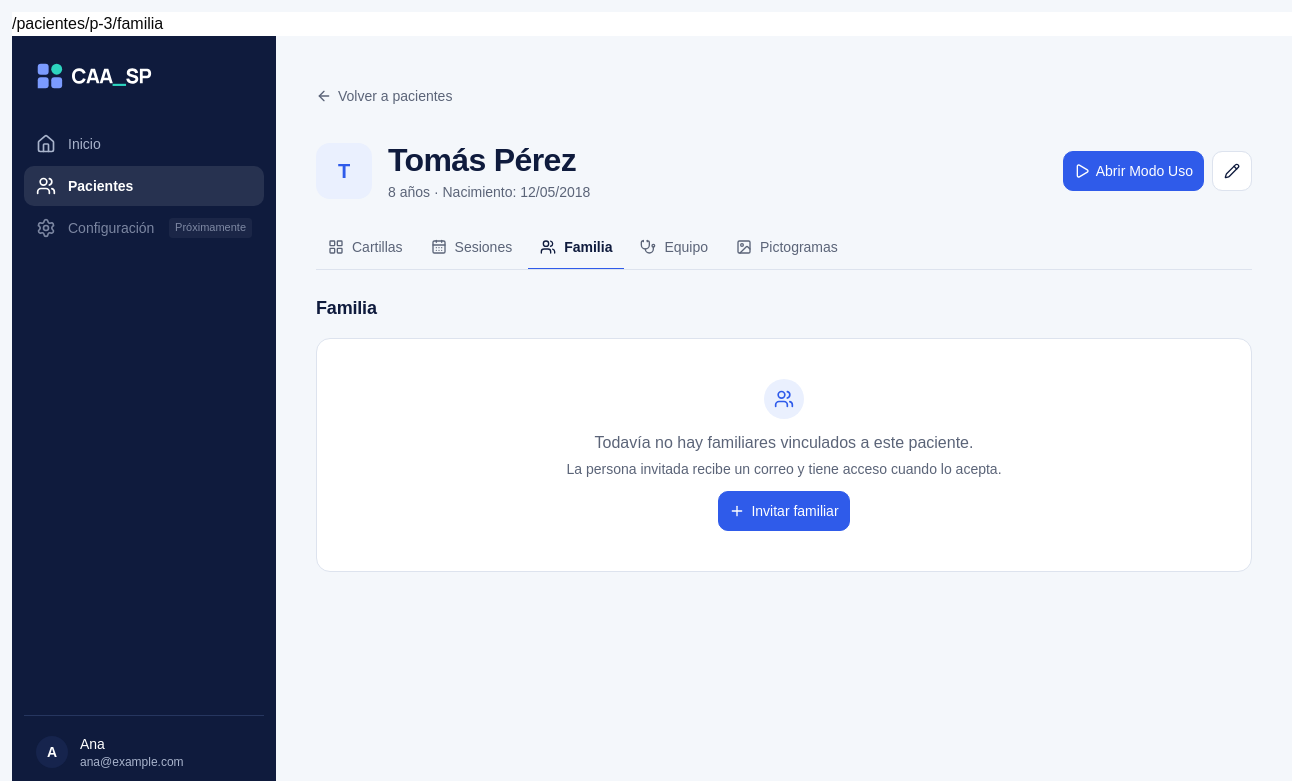
Test: CollaboratorsPage › invitations › sends an invitation (202) to an email without account: confirms it, lists it as pending, never as linked
The image size is (1292, 781).
Expected: the text "Todavía no hay familiares vinculados a este paciente." is shown, [566,431,1002,455]
Click the button "Invitar familiar". click: (784,511)
box: [718,491,850,531]
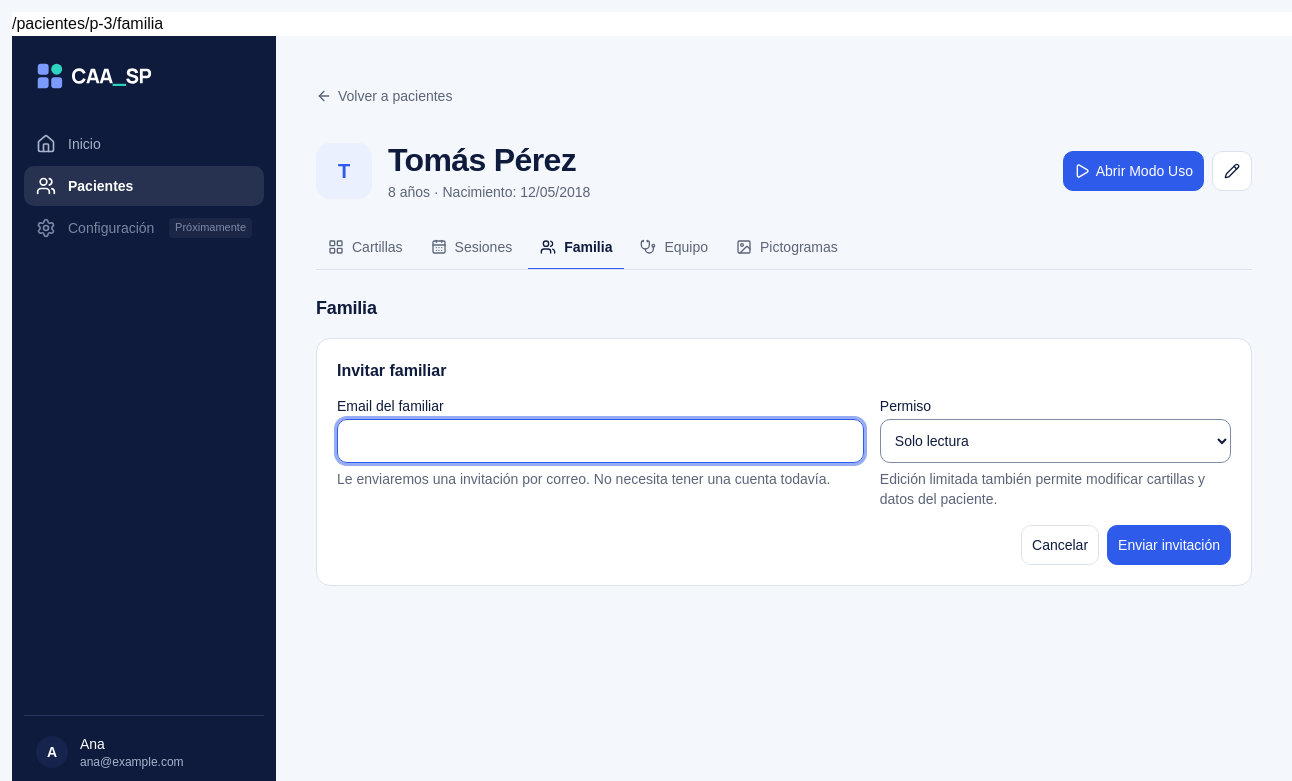
Type "nadie@example.com" into the field labelled "Email del familiar". click: (600,441)
box: [337,419,864,463]
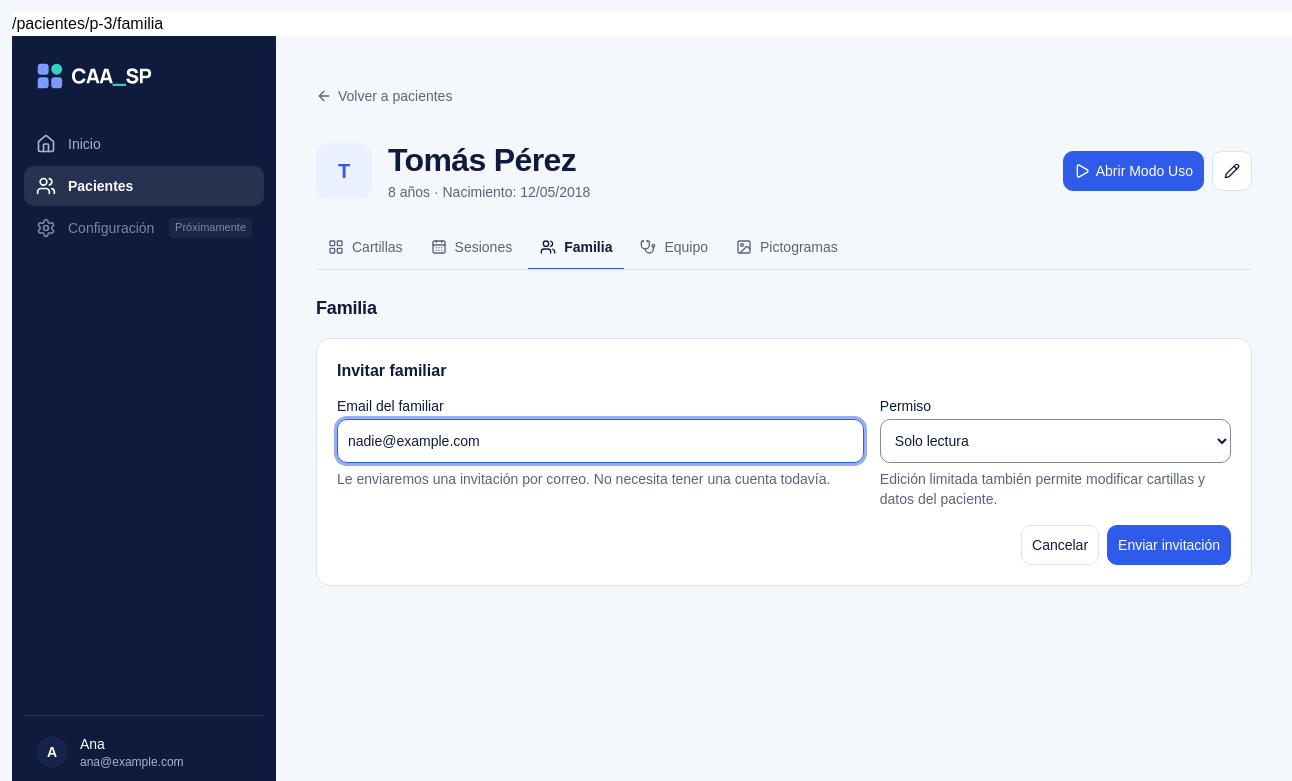
Click the button "Enviar invitación". click: (1169,545)
box: [1107,525,1231,565]
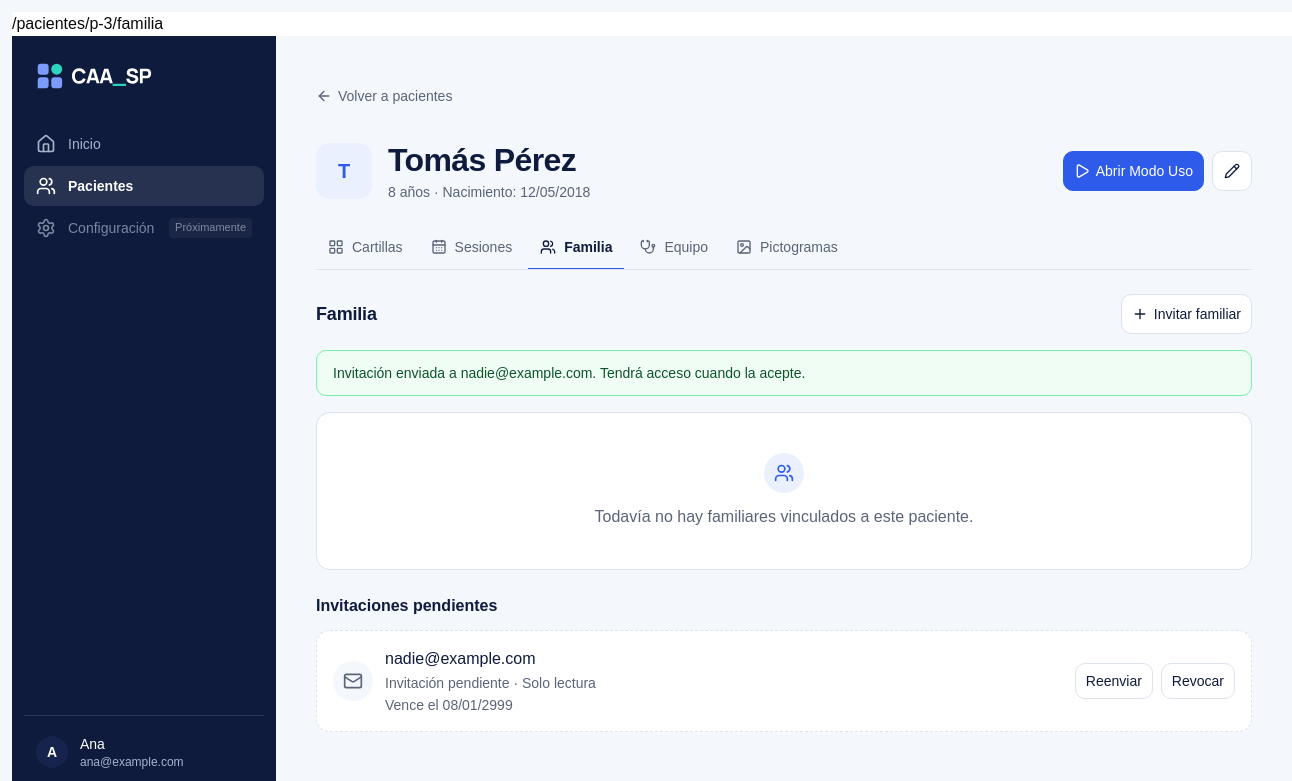
Result: the message reads "Invitación enviada a nadie@example.com. Tendrá acceso cuando la acepte." at [333,365,805,381]
Result: the text "nadie@example.com" is shown at [385,650,536,667]
Result: the text "Todavía no hay familiares vinculados a este paciente." is shown at [594,505,973,529]
